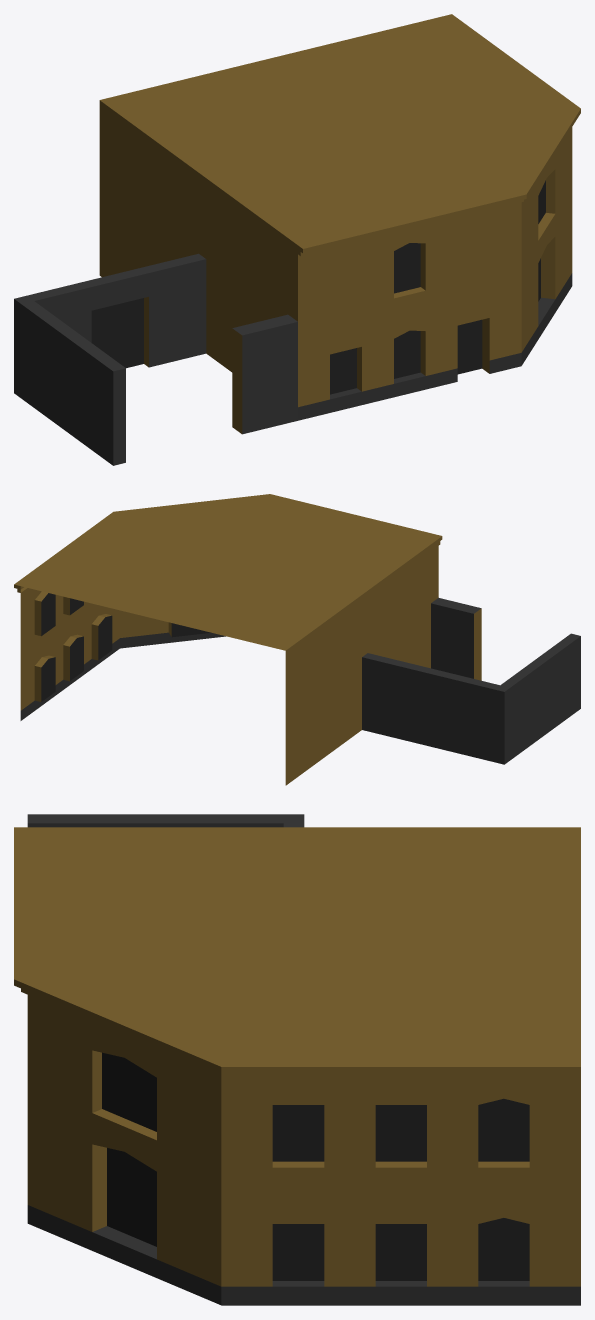
File: Edificio-1.fbx
3 renders of one model, top to bottom at view 1: azimuth 30°, elevation 25°; view 2: azimuth 150°, elevation 25°; view 3: azimuth 270°, elevation 25°, orthographic. The views are drawn at different scales.
Parts seen in each view (by area): view 1: Plane; view 2: Plane; view 3: Plane.
Boxes of the visible parts, x1,y1,x2,y2 form: Plane: [14, 14, 580, 465]; Plane: [14, 494, 580, 785]; Plane: [14, 814, 580, 1305].
Bounding box in the file's own units: 1250 × 390 × 820.
